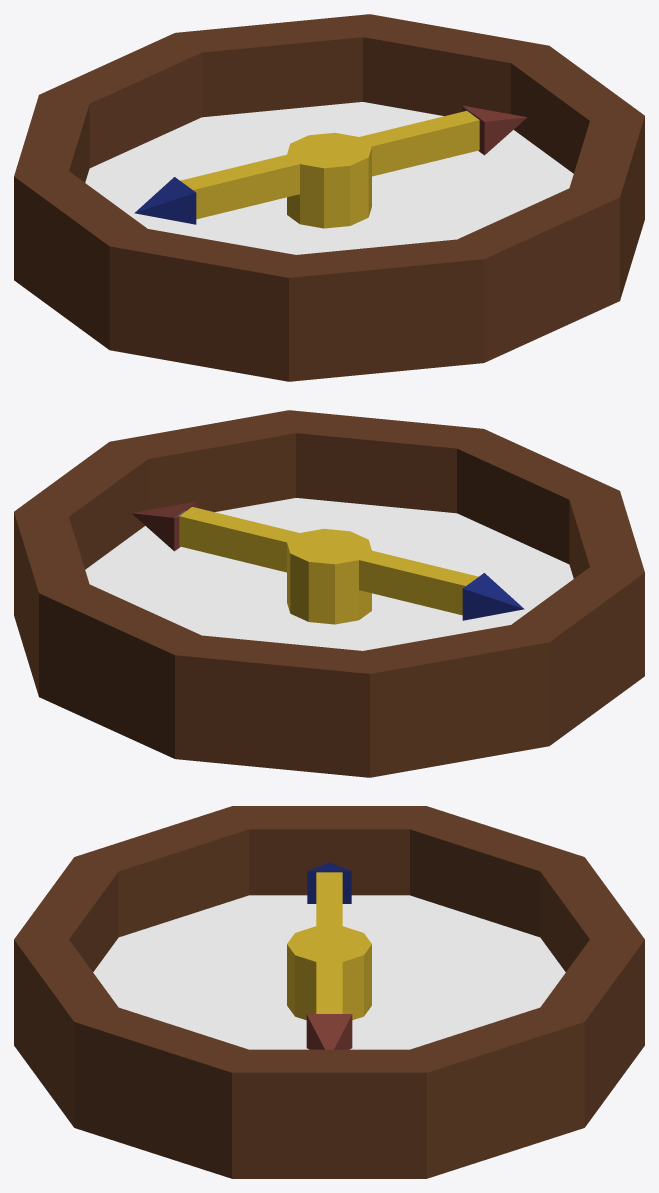
Rendered from compasshand01.obj.
3 views of the same model, one above another, from view 1: azimuth 30°, elevation 25°; view 2: azimuth 150°, elevation 25°; view 3: azimuth 270°, elevation 25° (orthographic). The views are drawn at different scales.
Parts seen in each view (by area): view 1: Cylinder_Cylinder.002; view 2: Cylinder_Cylinder.002; view 3: Cylinder_Cylinder.002.
Part boxes in pixels (<box>): Cylinder_Cylinder.002: <box>14,14,644,381</box>; Cylinder_Cylinder.002: <box>14,410,644,777</box>; Cylinder_Cylinder.002: <box>14,806,644,1178</box>.
Bounding box in the file's own units: 0.08 × 0.0148 × 0.08.
